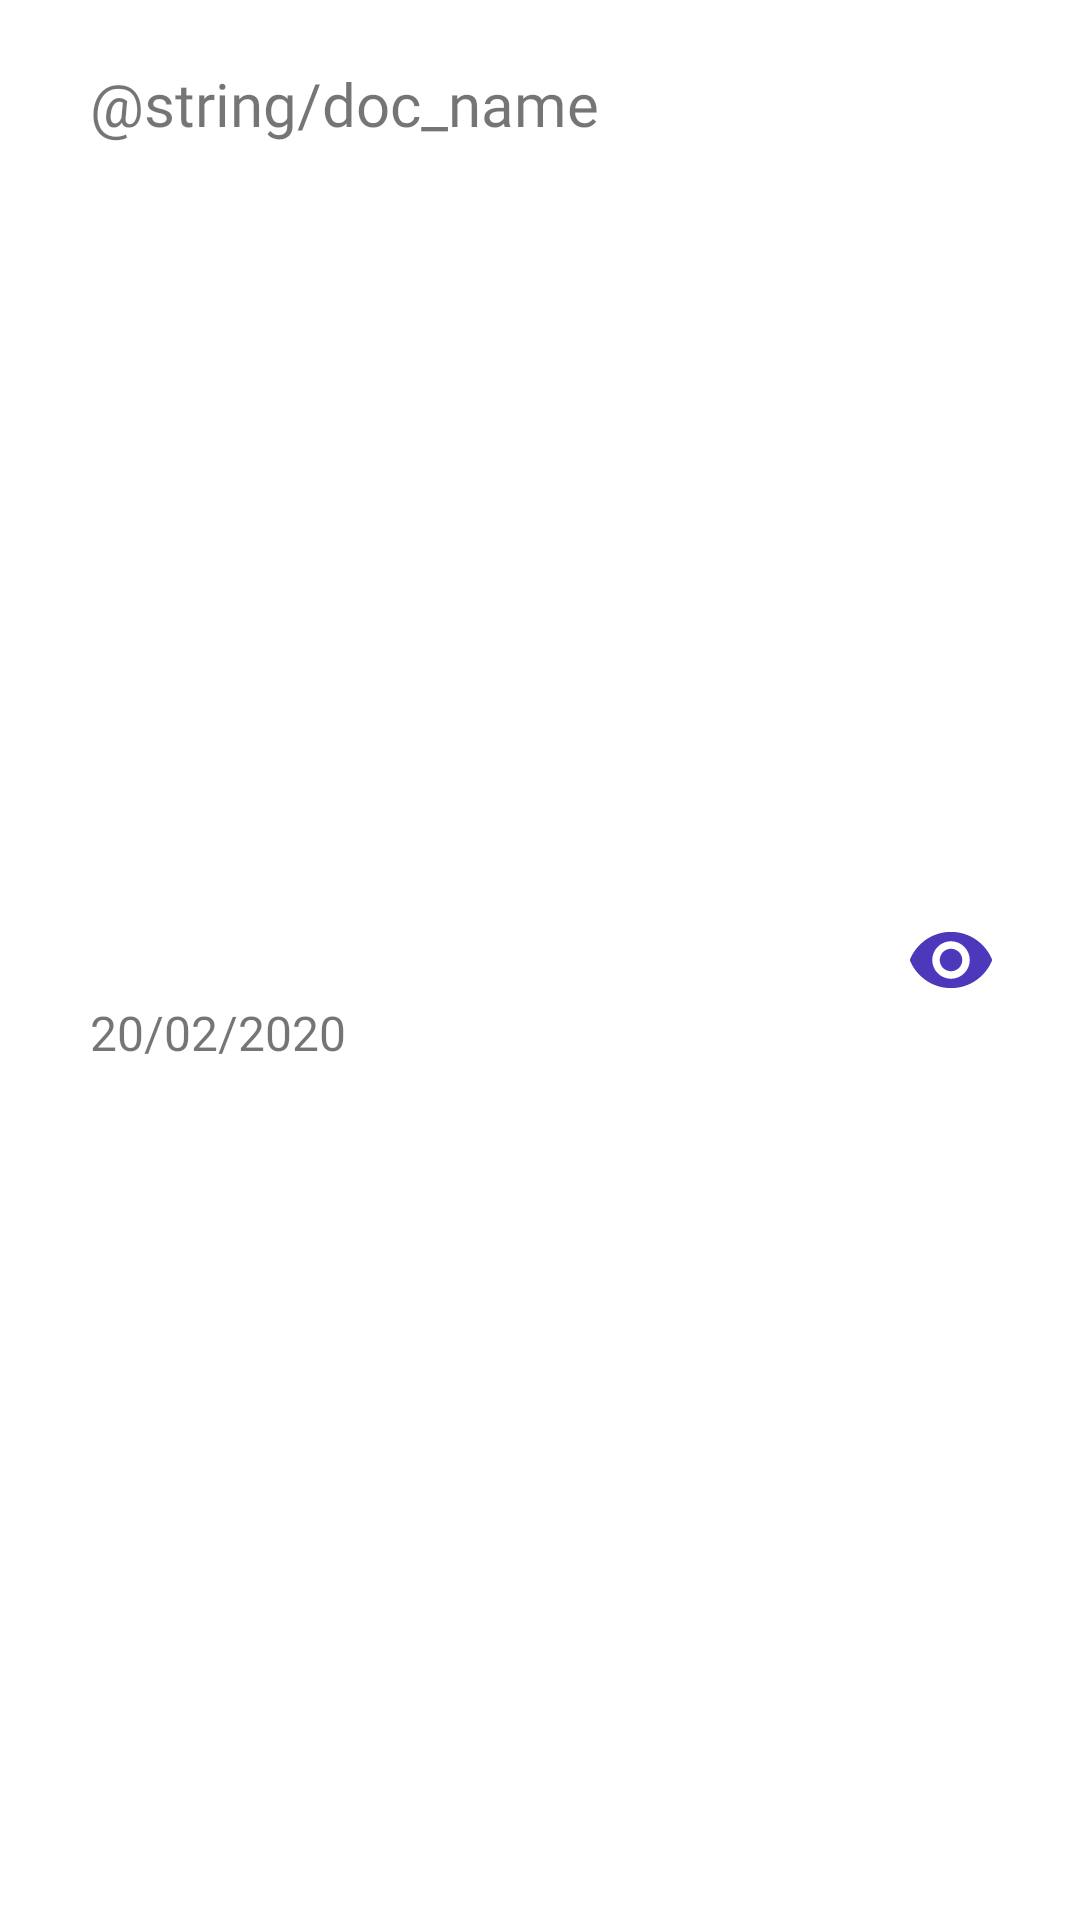

Icon click points for this 1080 × 1920 phone screenshot, format (x=x, y=y):
eye: (x=951, y=960)
